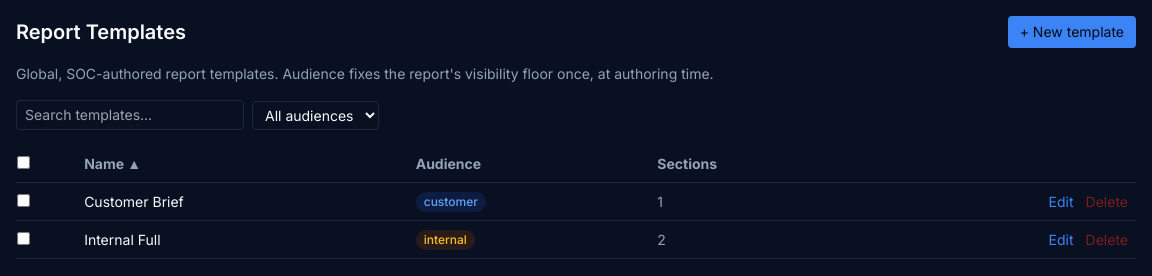
Test: ReportTemplatesAdmin › filters by audience
The image size is (1152, 276).
Expected: the text "Customer Brief" is shown, [83, 182, 415, 220]
Select "Internal" in the dropdown named "Filter by audience" at (316, 115), box [252, 100, 379, 130]
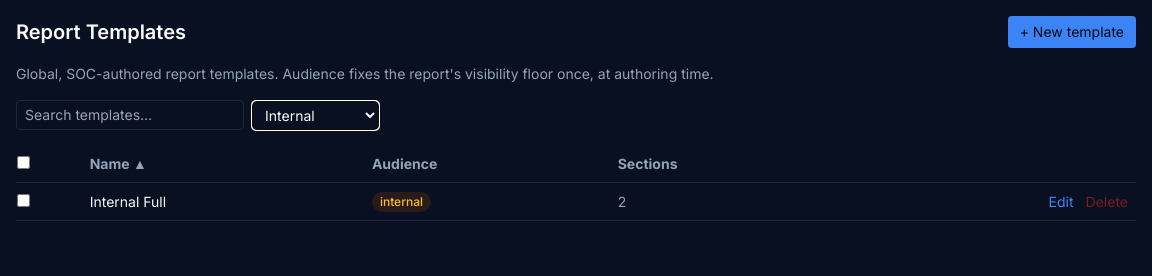
Expected: the text "Internal Full" is shown, [89, 182, 371, 220]
Result: the text "Customer Brief" is gone
